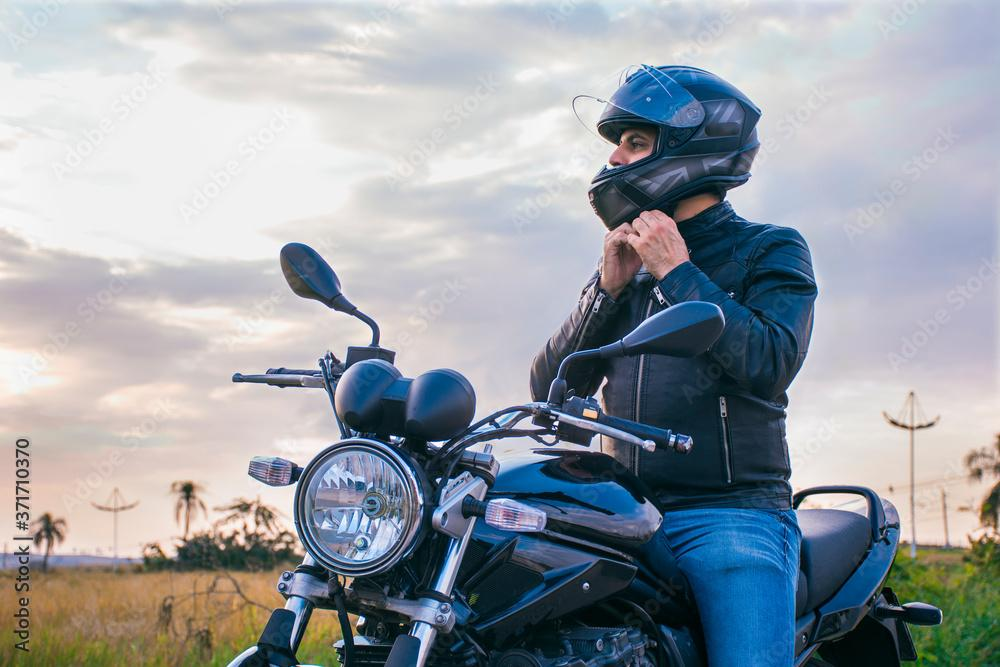helmet: (571, 62, 763, 234)
